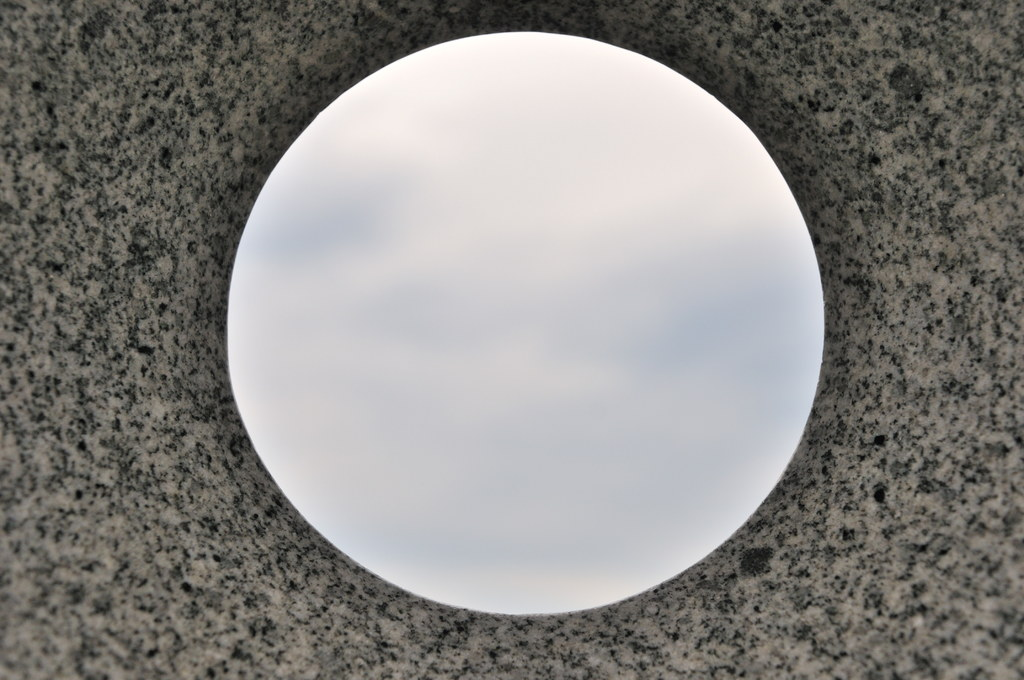plate: (226, 31, 826, 612)
